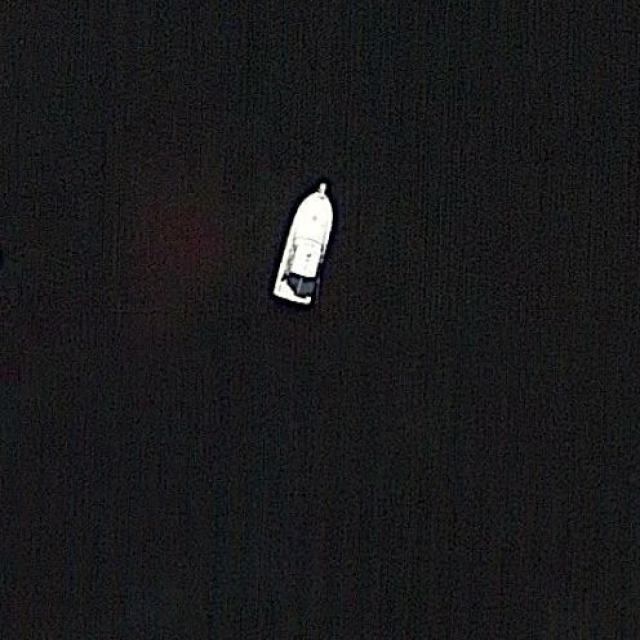ship: (272, 184, 336, 307)
